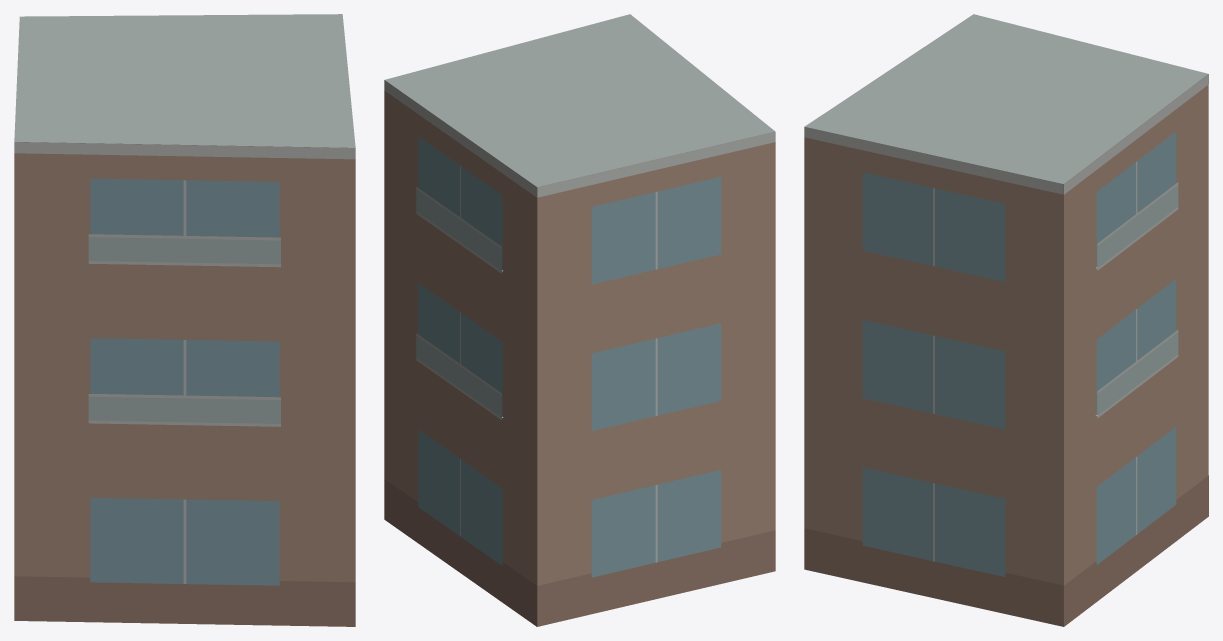
File: survey-upis-32996553.glb
3 renders of one model, left to right at view 1: azimuth 30°, elevation 25°; view 2: azimuth 150°, elevation 25°; view 3: azimuth 270°, elevation 25°, orthographic. The views are drawn at different scales.
Visible parts, largest first — view 1: survey-upis-32996553.tmp; view 2: survey-upis-32996553.tmp; view 3: survey-upis-32996553.tmp.
Part boxes in pixels (bbox=[...]): survey-upis-32996553.tmp: bbox=[14, 14, 355, 626]; survey-upis-32996553.tmp: bbox=[384, 14, 775, 626]; survey-upis-32996553.tmp: bbox=[804, 14, 1208, 626].
Size of the model in its own units: 8.42 by 10.2 by 8.45.
